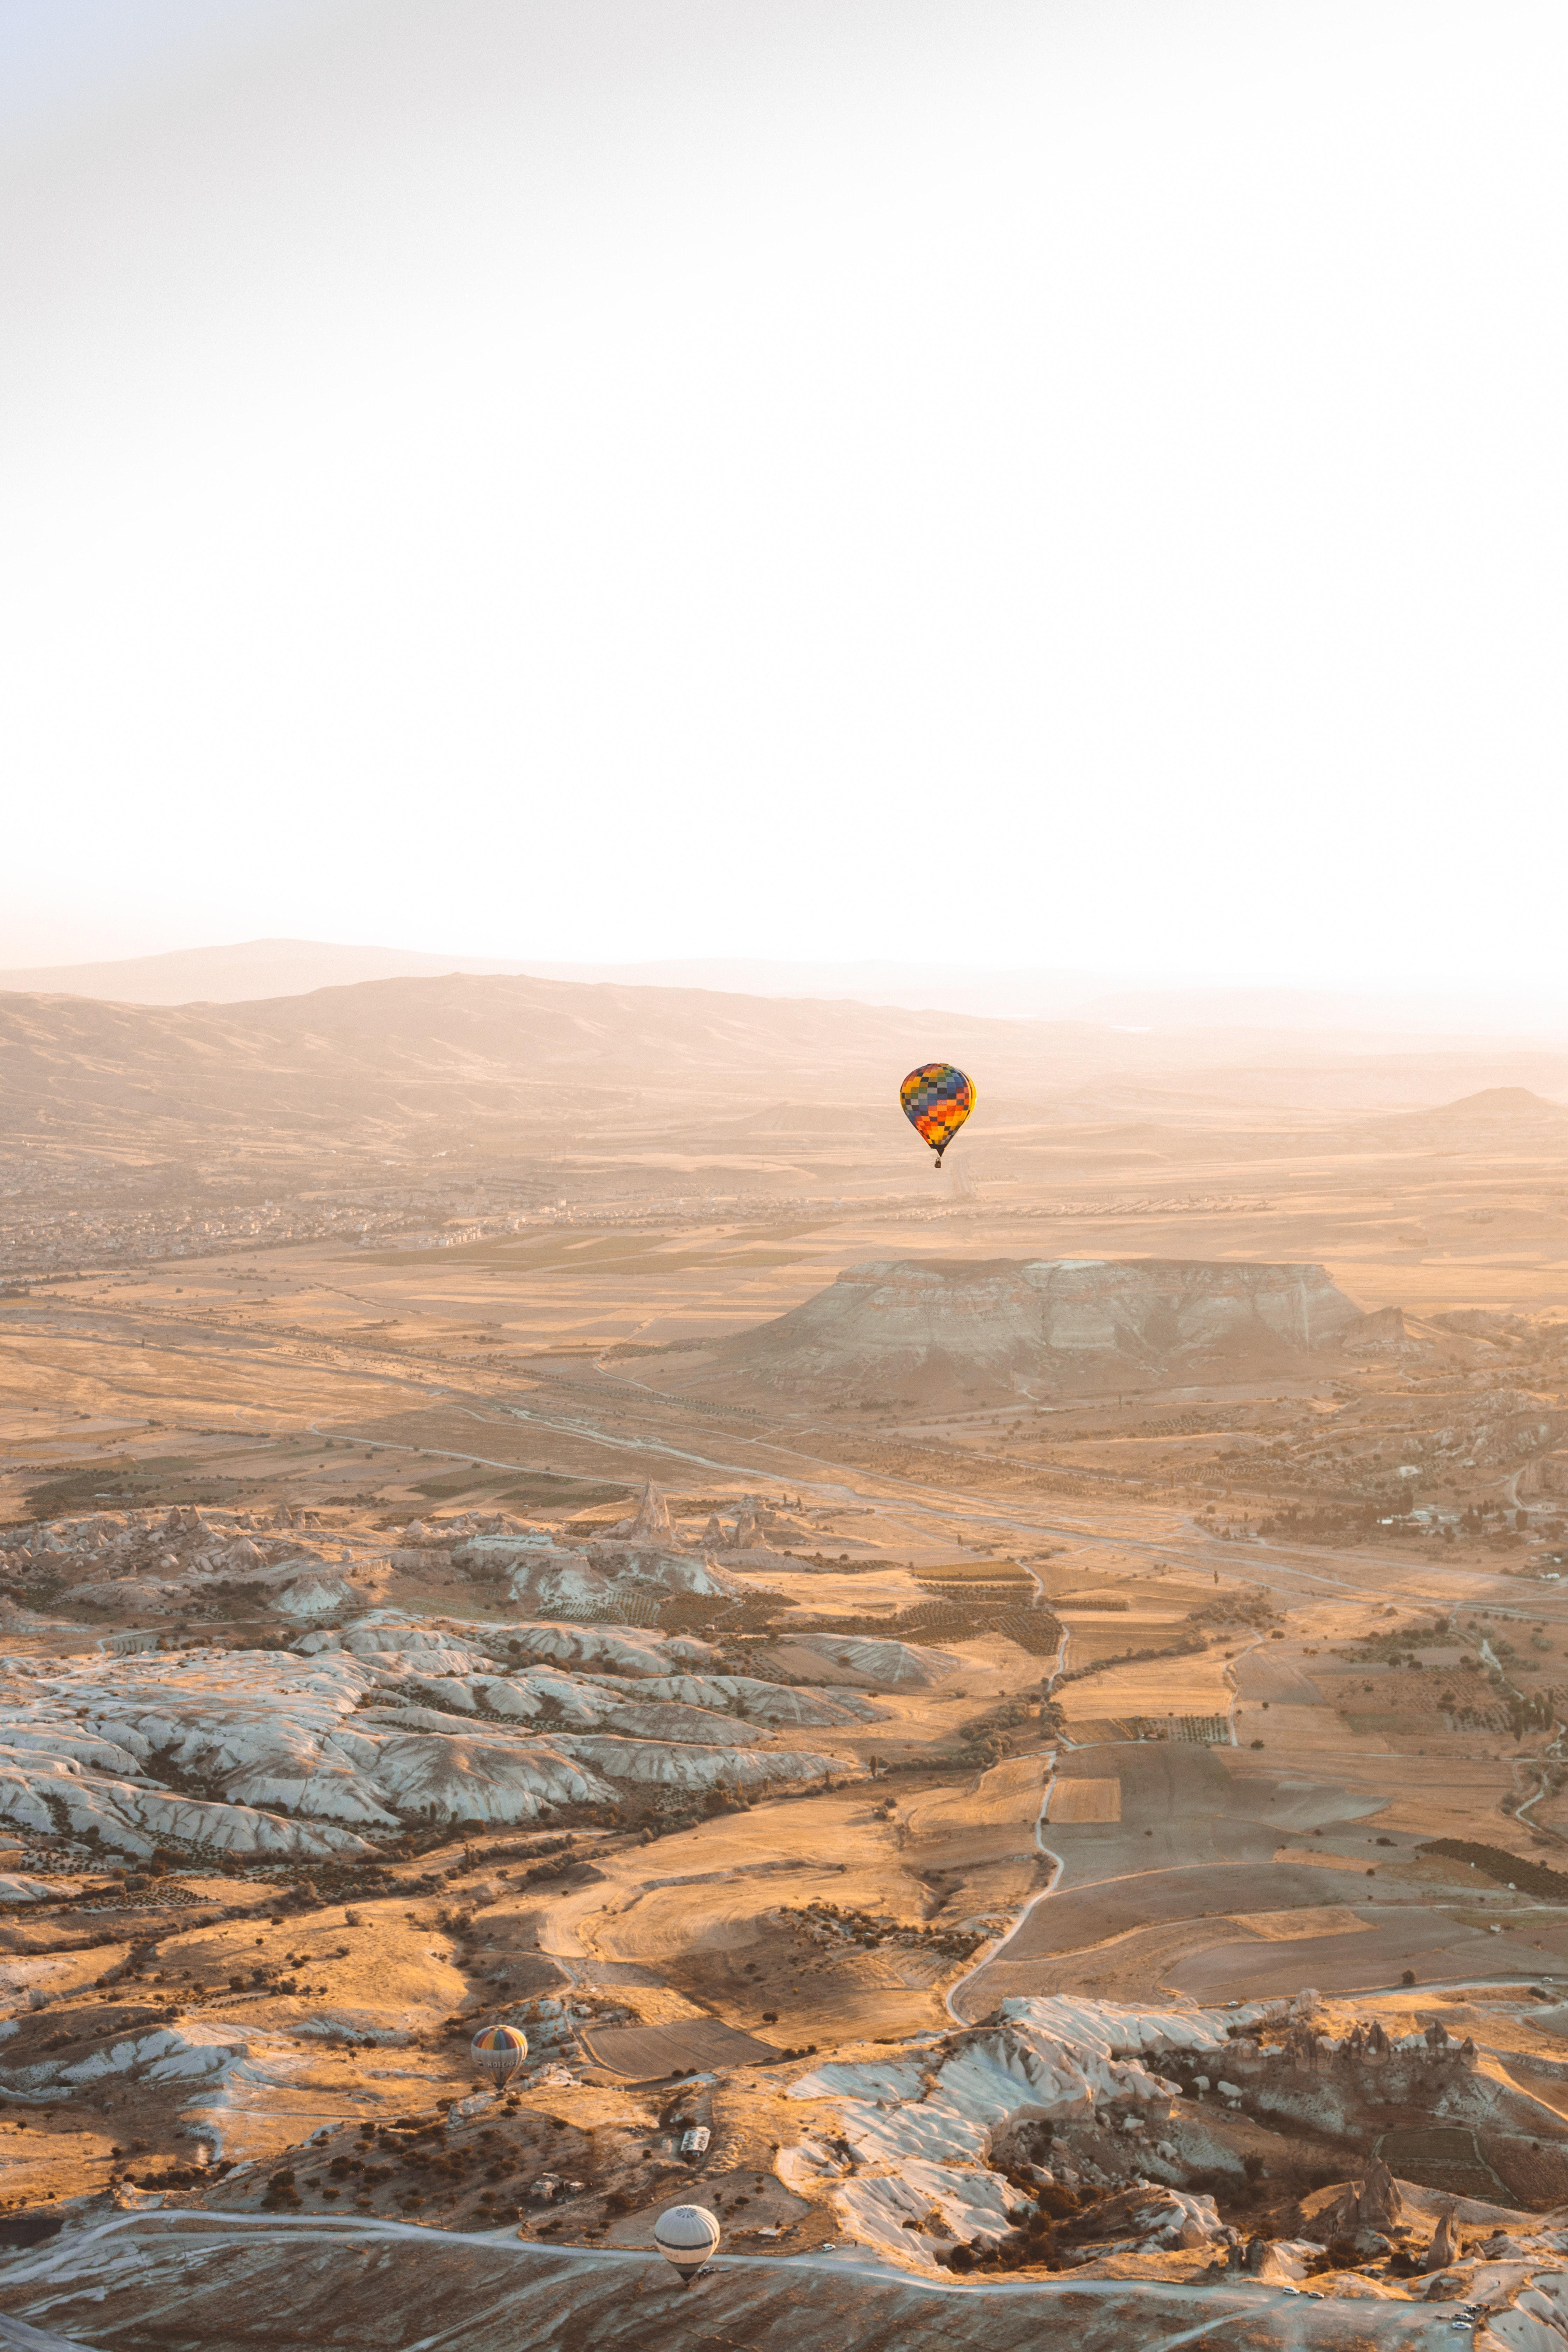hot air ballon: (899, 1063, 977, 1168)
